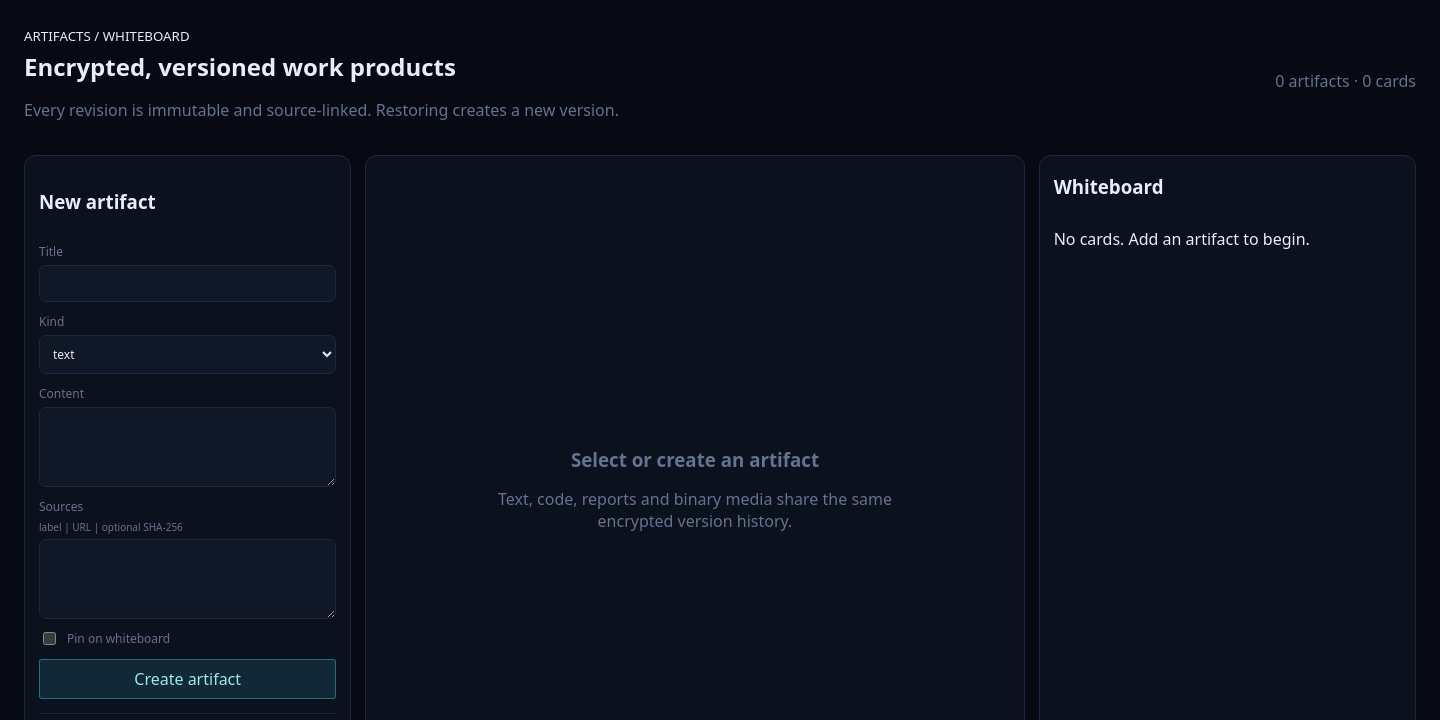
Test: artifact workspace › creates source-linked content through the encrypted native boundary
Expected: the form "New artifact" is shown, [39,170,336,699]
Type "Architecture report" into the field labelled "Title". click: (188, 284)
box: [39,265,336,302]
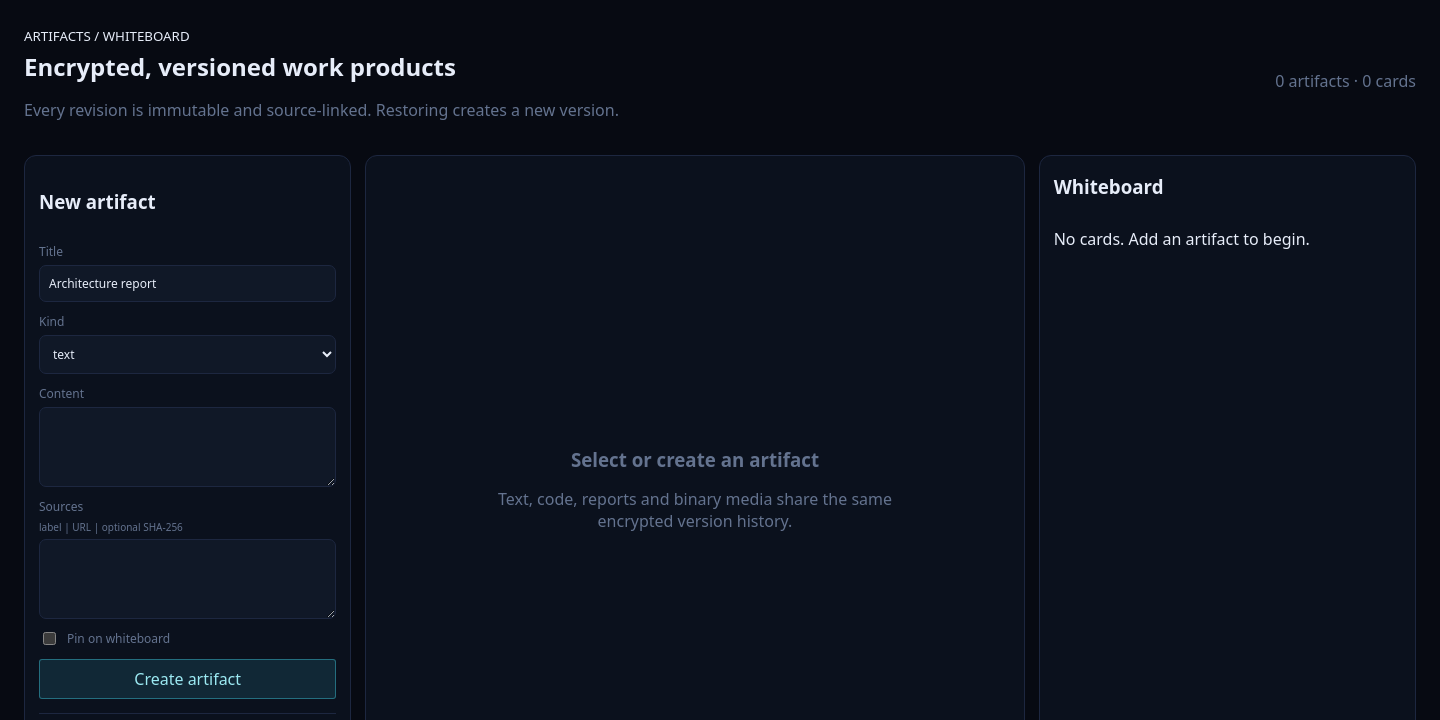
Type "hello world" into the text box labelled "Content". click: (188, 447)
box: [39,407,336,487]
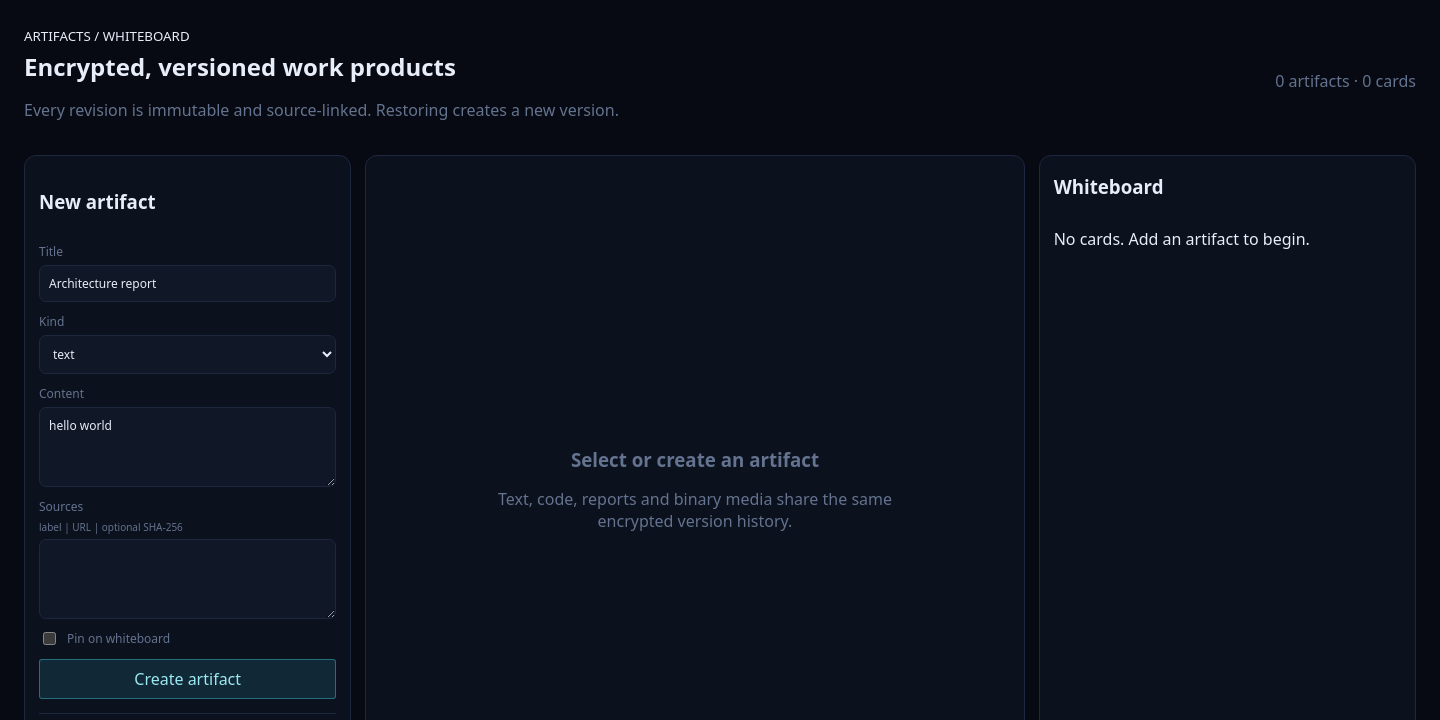
Type "Design | https://example.test/design" into the text box labelled "Sources label | URL | optional SHA-256". click: (188, 579)
box: [39,539,336,619]
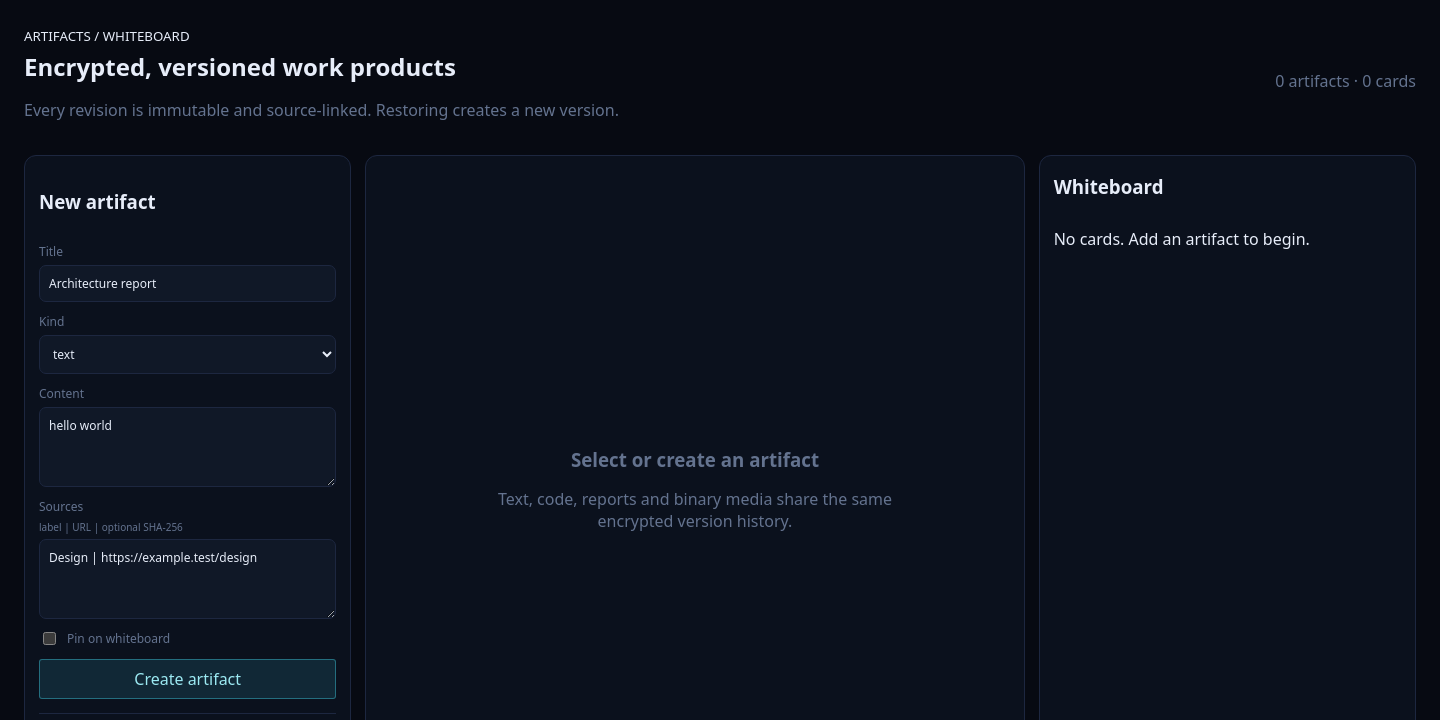
Click the checkbox labelled "Pin on whiteboard". click: (50, 639)
box: [43,632,56,645]
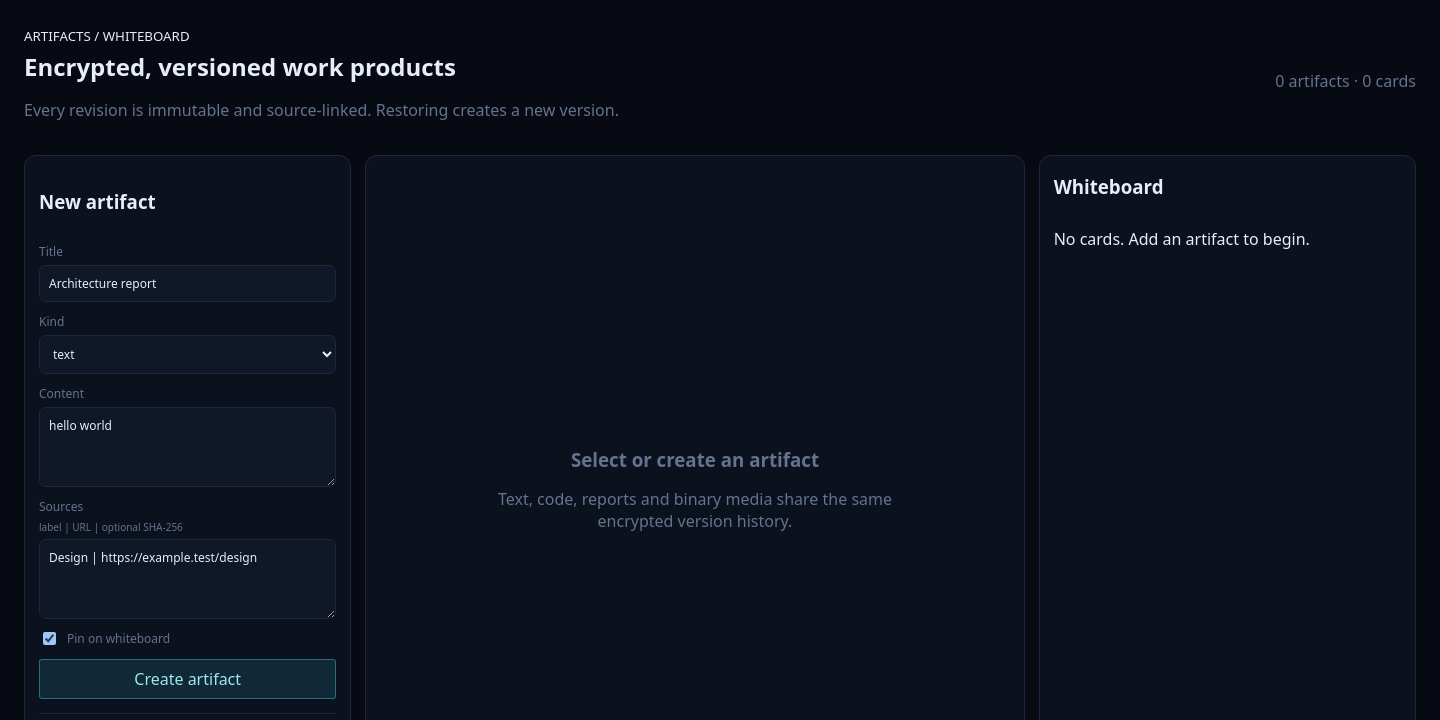
Click the button "Create artifact". click: (188, 679)
box: [39,659,336,699]
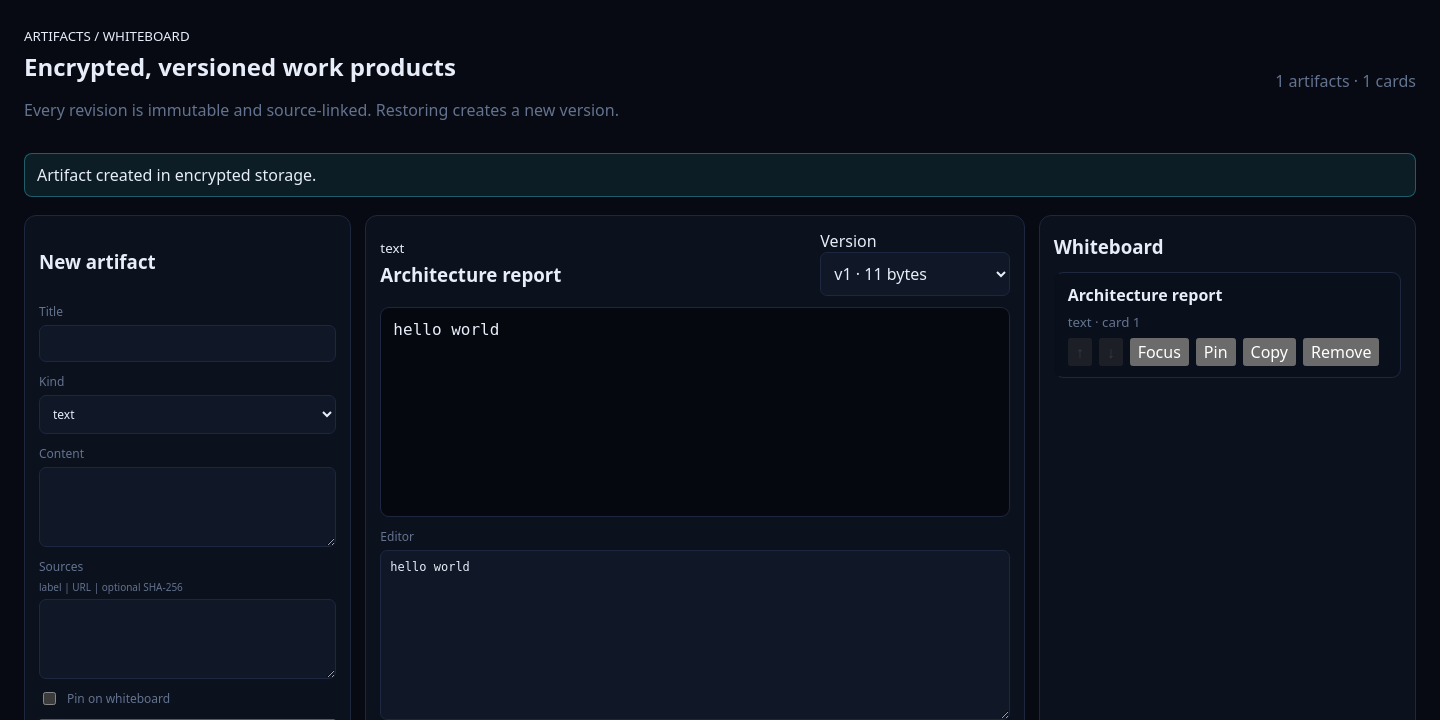
Expected: the text "Artifact created in encrypted storage." is shown, [24,153,1416,197]
